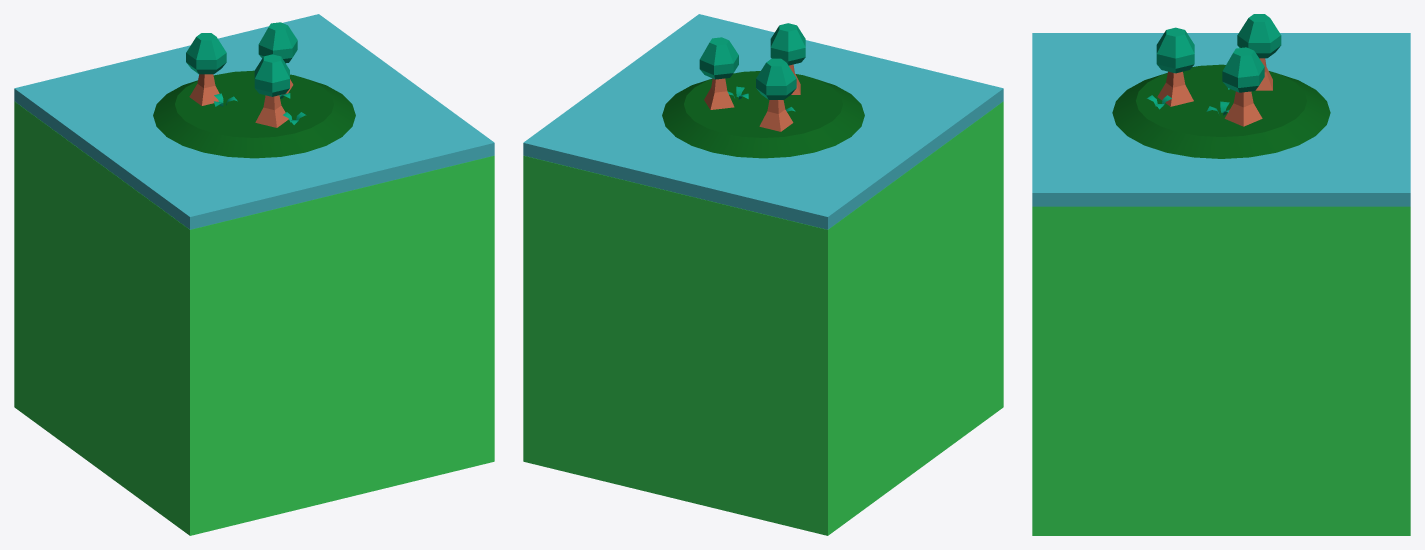
Rendered from Isla1.obj.
3 renders of one model, left to right at view 1: azimuth 30°, elevation 25°; view 2: azimuth 150°, elevation 25°; view 3: azimuth 270°, elevation 25°, orthographic. The views are drawn at different scales.
Parts seen in each view (by area): view 1: mergedBlocks; view 2: mergedBlocks; view 3: mergedBlocks.
Part boxes in pixels (x1=…): mergedBlocks: x1=14, y1=14, x2=494, y2=535; mergedBlocks: x1=523, y1=14, x2=1003, y2=535; mergedBlocks: x1=1032, y1=14, x2=1410, y2=535.
Size of the model in its own units: 1 by 1.23 by 1.
